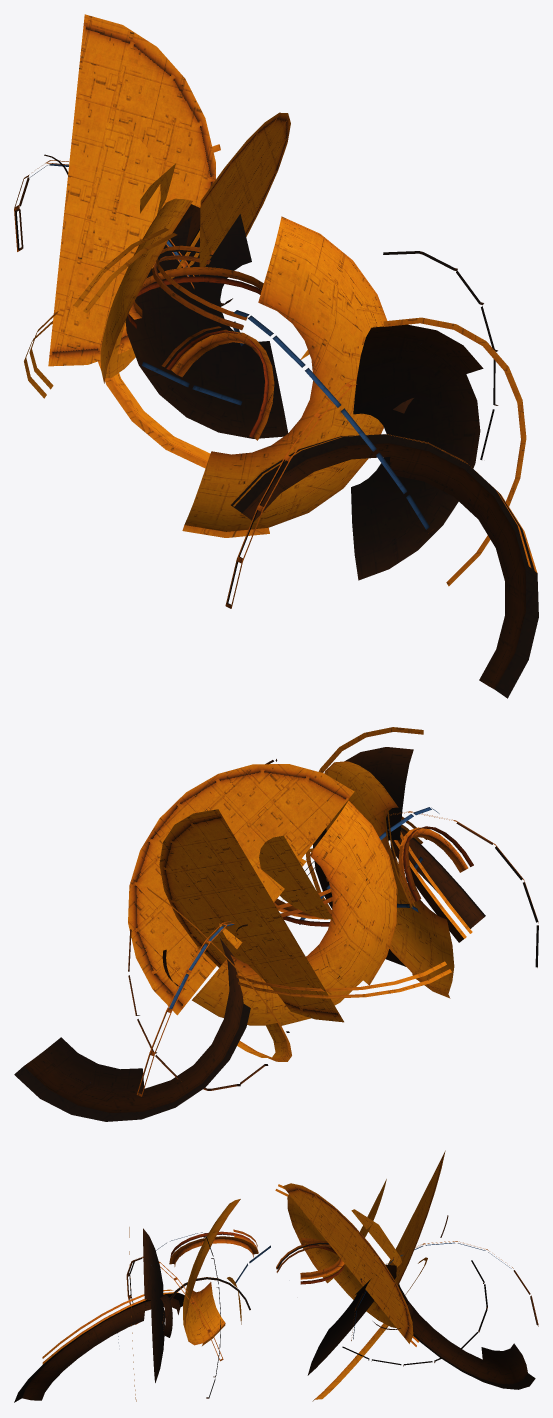
The model's file is MonsterB_Die18.obj.
3 renders of one model, top to bottom at view 1: azimuth 30°, elevation 25°; view 2: azimuth 150°, elevation 25°; view 3: azimuth 270°, elevation 25°, orthographic. The views are drawn at different scales.
Visible parts, largest first — view 1: Sphere001; view 2: Sphere001; view 3: Sphere001.
Boxes of the visible parts, x1,y1,x2,y2 form: Sphere001: [14, 14, 538, 698]; Sphere001: [14, 727, 538, 1121]; Sphere001: [14, 1150, 538, 1402].
Bounding box in the file's own units: 248 × 262 × 520.
Materials: 1 (1 with a texture image).
